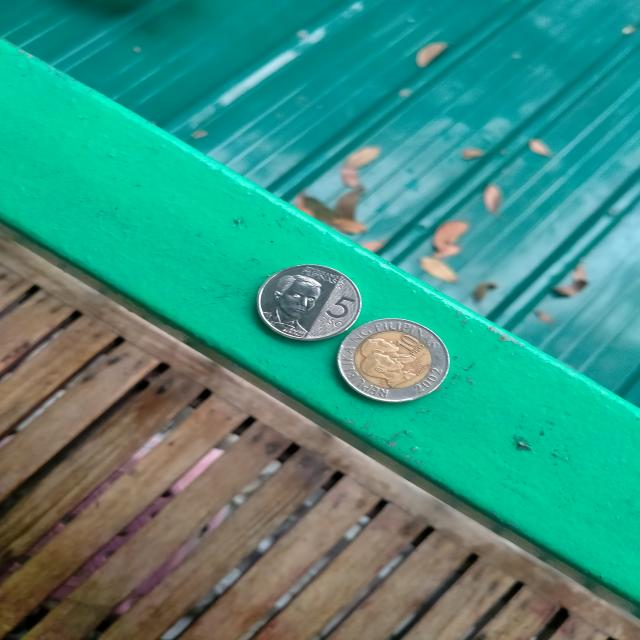10_Old_Front: (340, 320, 447, 403)
5_New_Front: (258, 266, 360, 342)
